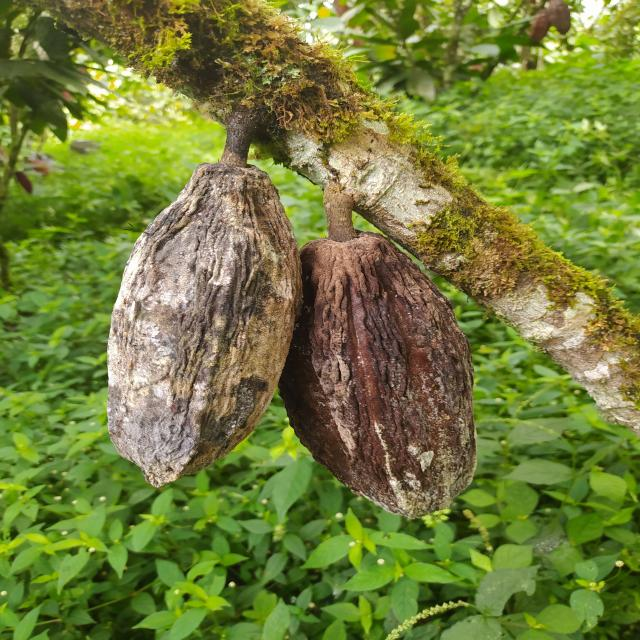Fitoftora: (105, 162, 303, 487), (273, 230, 476, 520)
